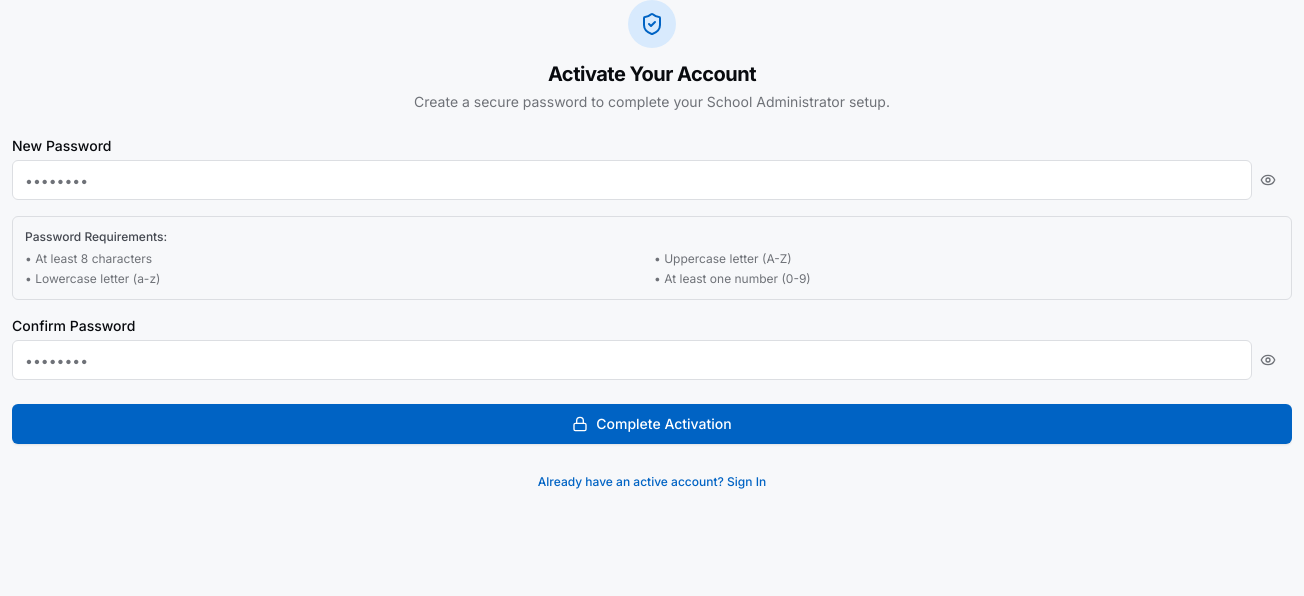
Test: AcceptInvitationPage Component › should display server error alert when acceptInvitation fails
In the password field labelled "New Password": point(632, 180) 12,160 -> 1252,200, type "AdminPass@2026"
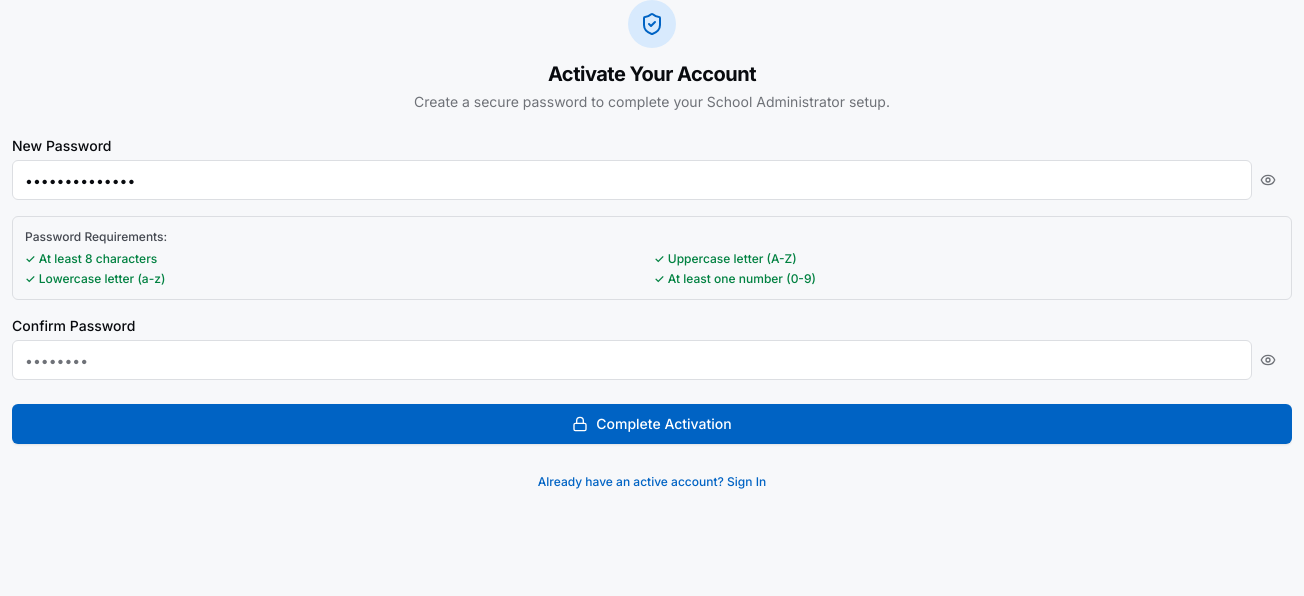
In the password field labelled "Confirm Password": point(632, 360) 12,340 -> 1252,380, type "AdminPass@2026"
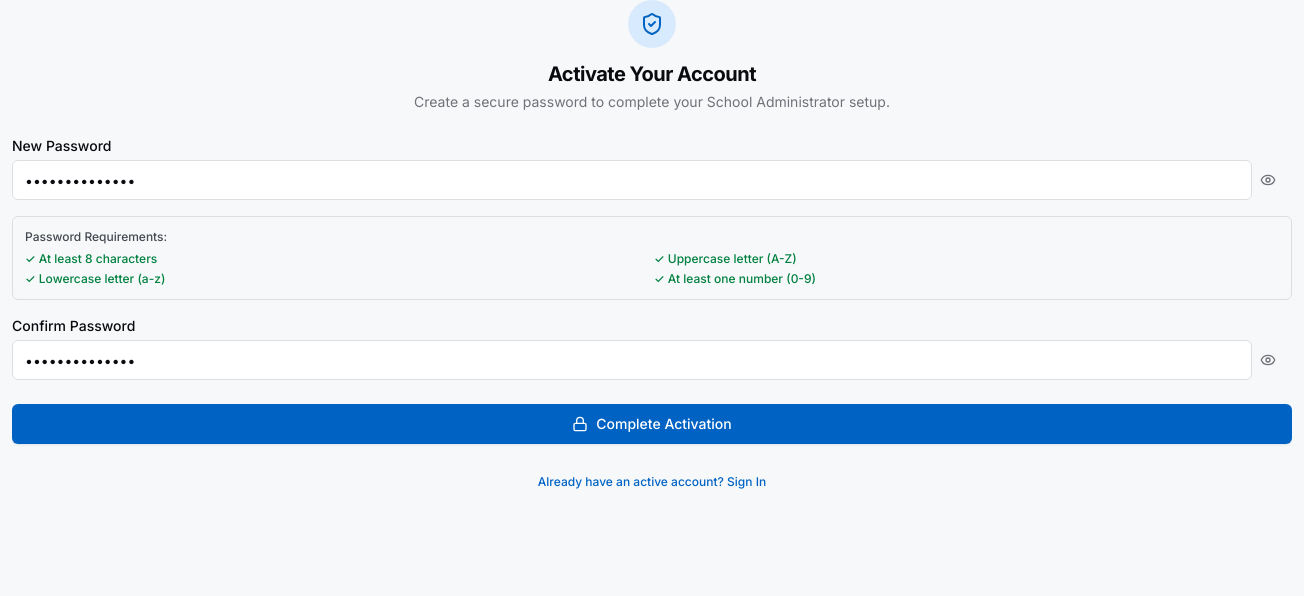
Click the button "Complete Activation": point(652, 424) 12,404 -> 1292,444
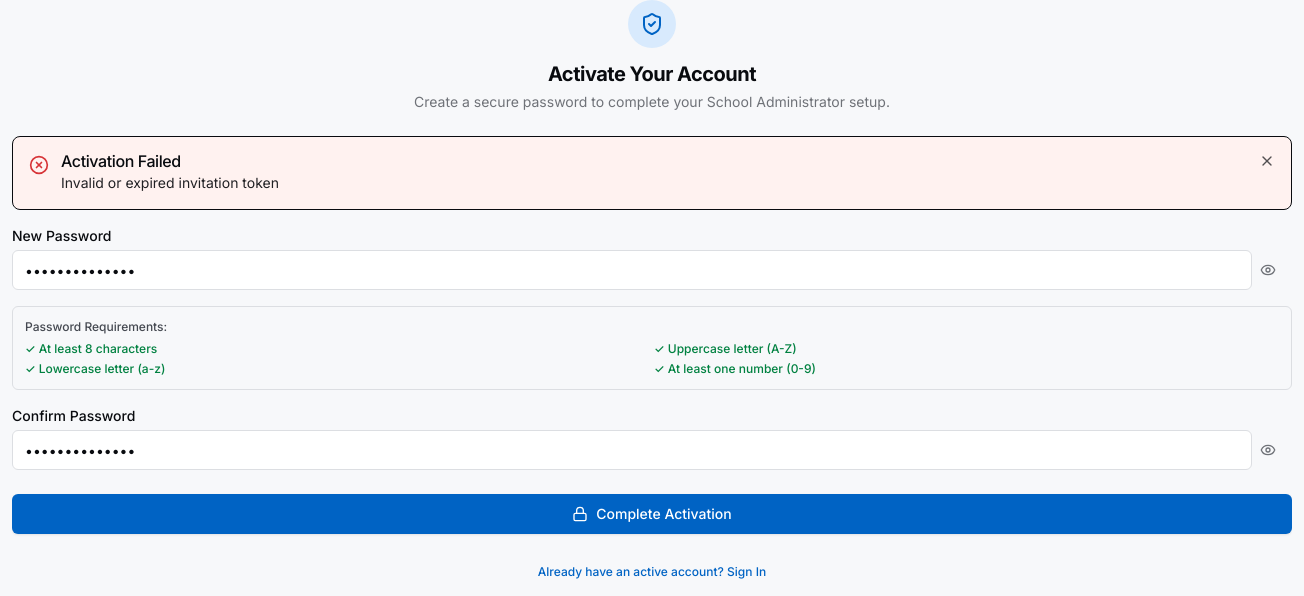
Check: the heading "Activation Failed" is shown, box 61,151 -> 181,171
Check: the text "Invalid or expired invitation token" is shown, box 61,174 -> 279,191
